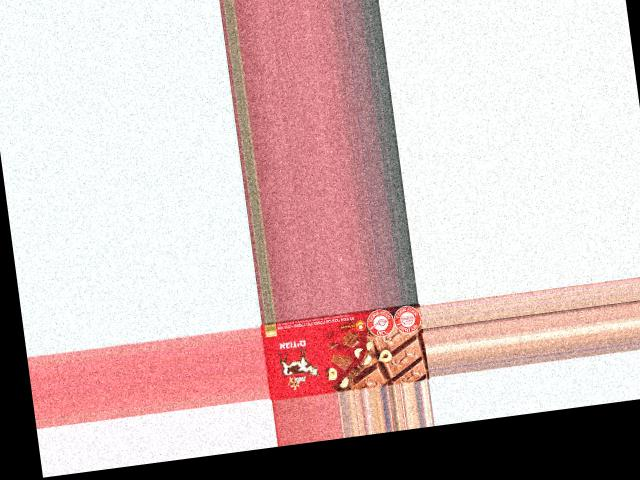chocolate: (259, 305, 428, 400)
